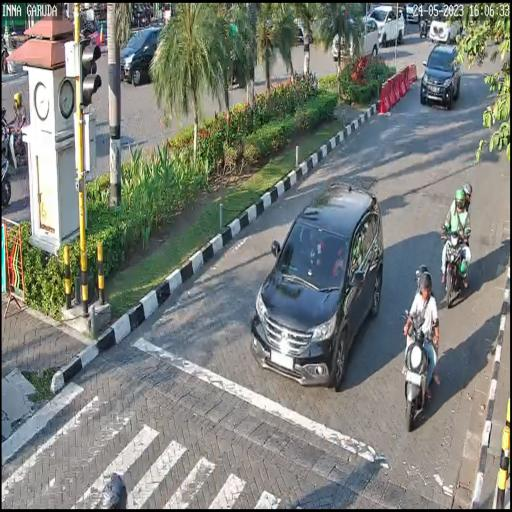mobil: (253, 181, 383, 390), (419, 41, 463, 112)
motor: (400, 308, 438, 431), (441, 222, 470, 308)
